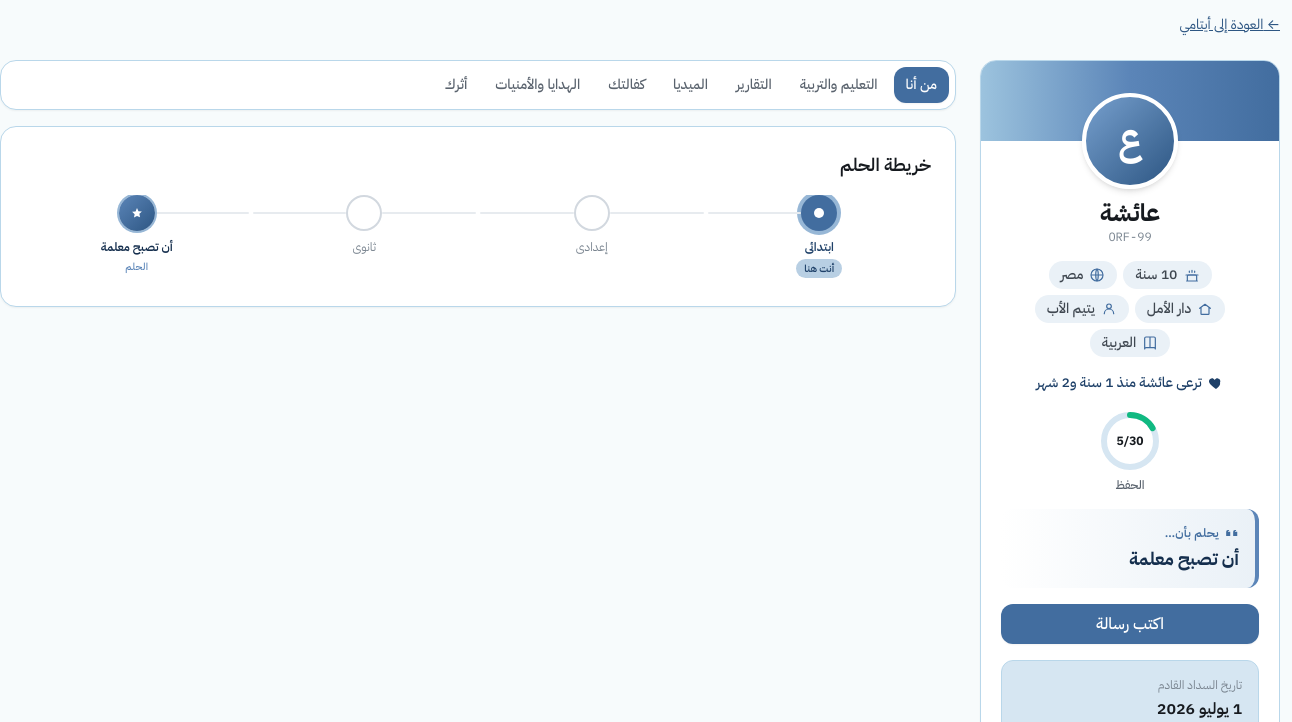
Test: DonorOrphanDetailPage — composed donor profile › renders only the identity when all element blocks are absent
Check: the heading "عائشة" is shown, box [1100, 197, 1160, 229]
Check: the list item "مصر" is shown, box [1048, 261, 1117, 289]
Click the tab "التعليم والتربية".
click(839, 85)  # box [788, 67, 890, 103]
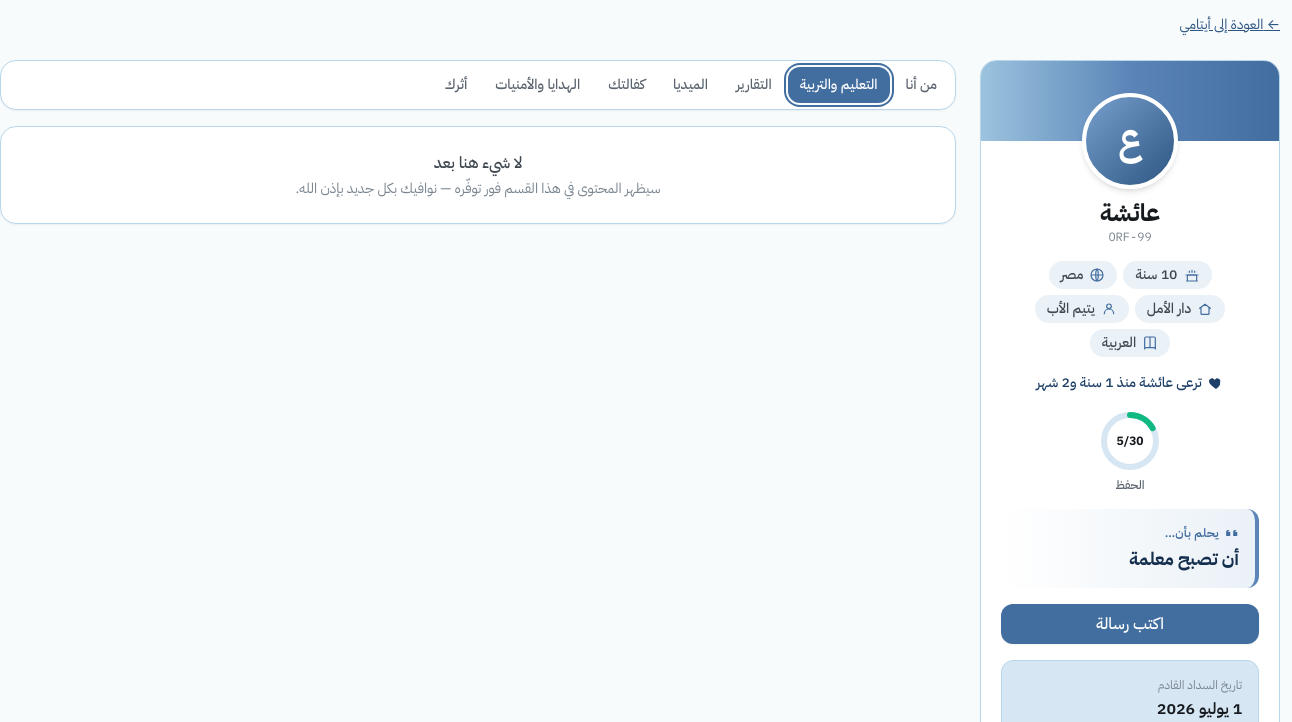
Check: the text "لا شيء هنا بعد" is shown, box [434, 151, 522, 175]
Click the tab "التقارير".
click(754, 85)  # box [724, 67, 784, 103]
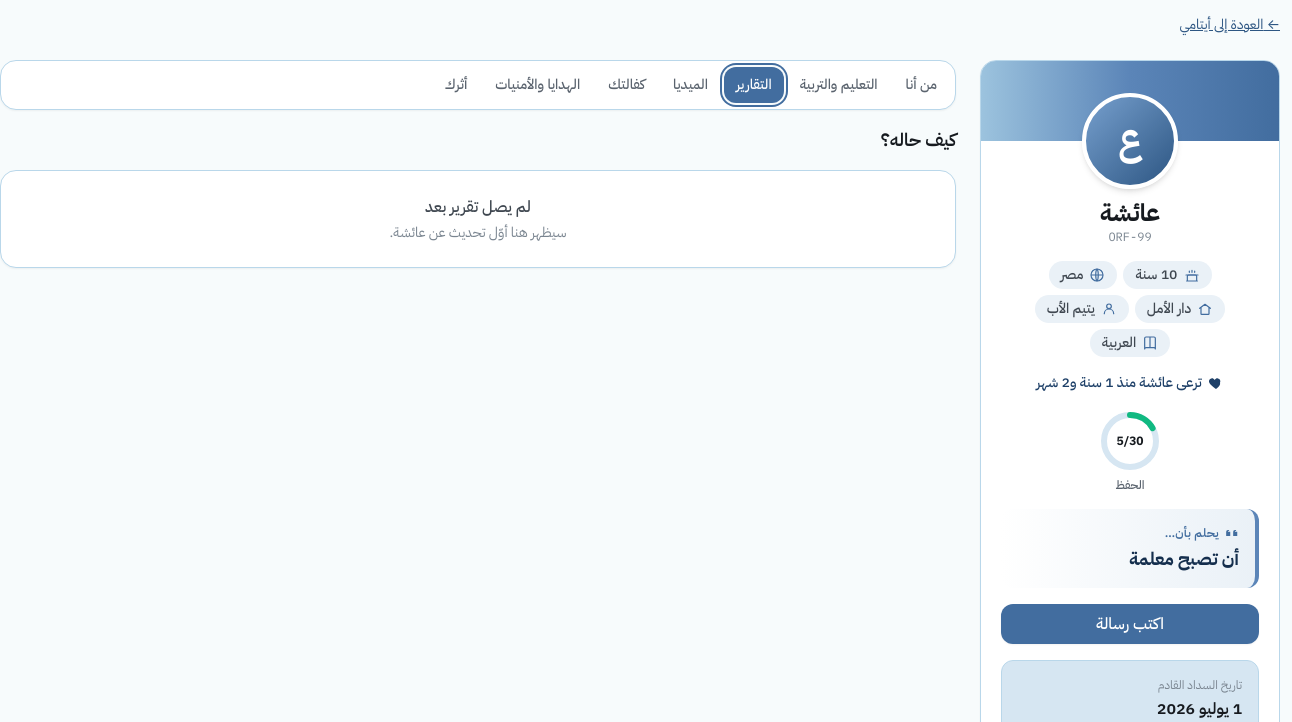
Check: the heading "كيف حاله؟" is shown, box [881, 126, 956, 153]
